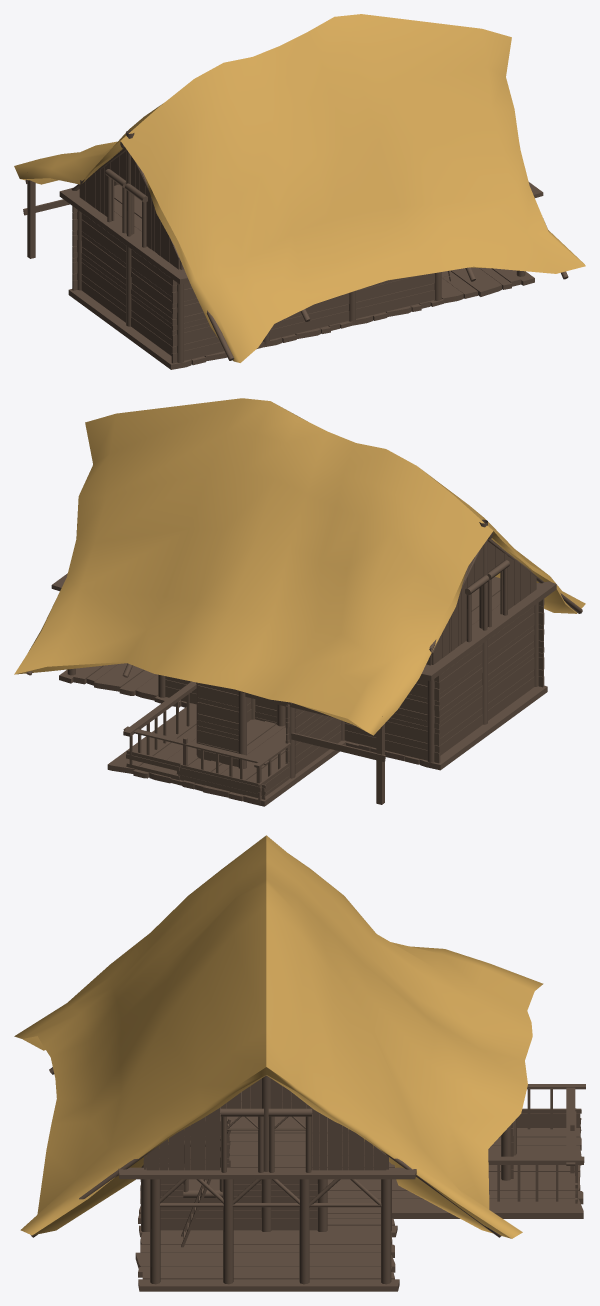
Rendered from -LOD1_p_hut_001.fbx.
3 views of the same model, one above another, from view 1: azimuth 30°, elevation 25°; view 2: azimuth 150°, elevation 25°; view 3: azimuth 270°, elevation 25° (orthographic). The views are drawn at different scales.
Parts seen in each view (by area): view 1: Cylinder.000, Cylinder.006; view 2: Cylinder.000, Cylinder.006; view 3: Cylinder.000, Cylinder.006.
Part boxes in pixels (<box>): Cylinder.000: <box>14,14,585,362</box>; Cylinder.006: <box>23,130,568,369</box>; Cylinder.000: <box>14,398,585,735</box>; Cylinder.006: <box>26,519,582,806</box>; Cylinder.000: <box>14,835,543,1238</box>; Cylinder.006: <box>31,1067,585,1291</box>.
Size of the model in its own units: 1825 by 1173 by 1902.
